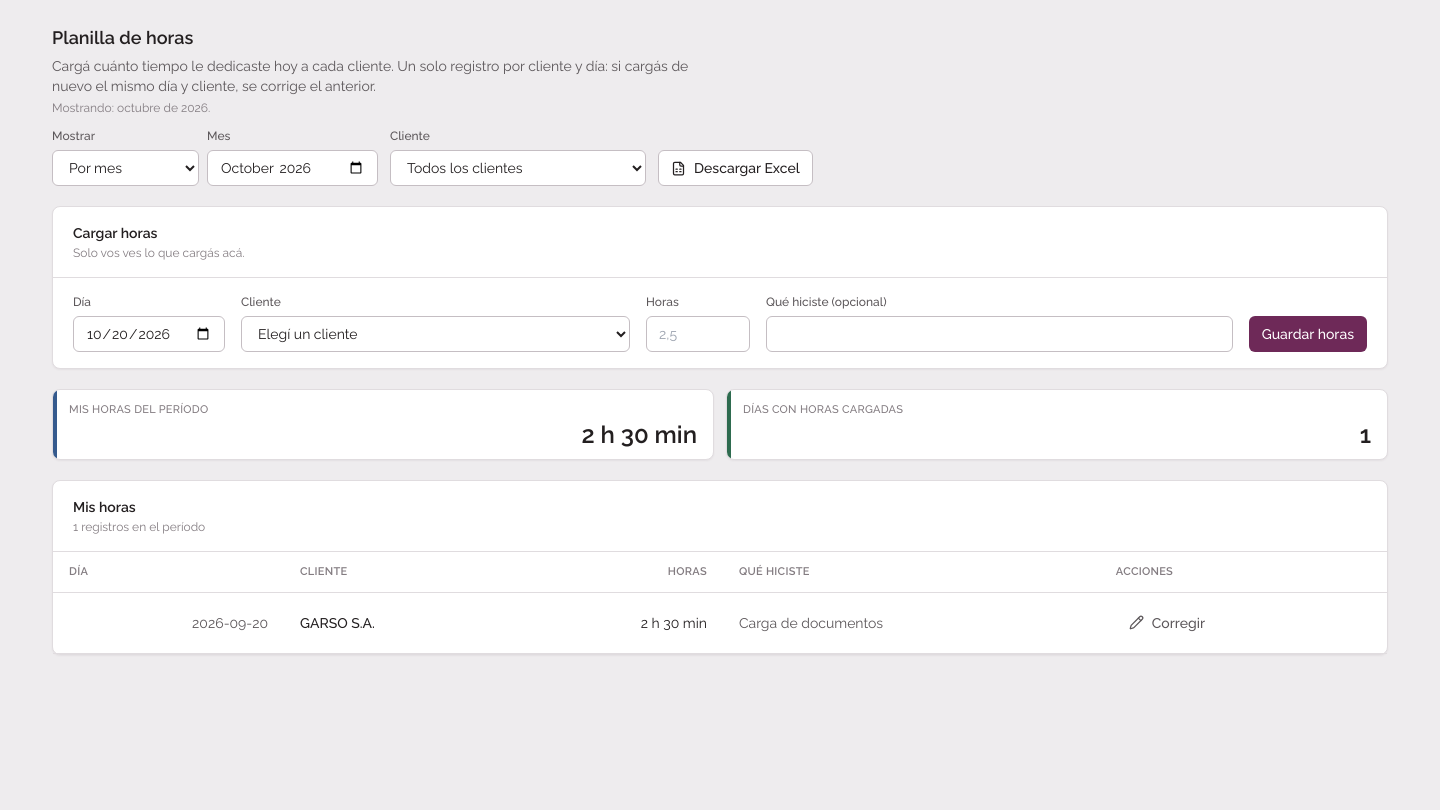
Test case: planilla de horas › corregir precarga el formulario con el registro elegido
The width and height of the screenshot is (1440, 810).
Expected: the heading "Planilla de horas" is shown, [52,27,193,48]
Click the button with aria-label "Corregir horas del 2026-09-20 — GARSO S.A.": x=1167, y=622 [1116,604,1218,640]
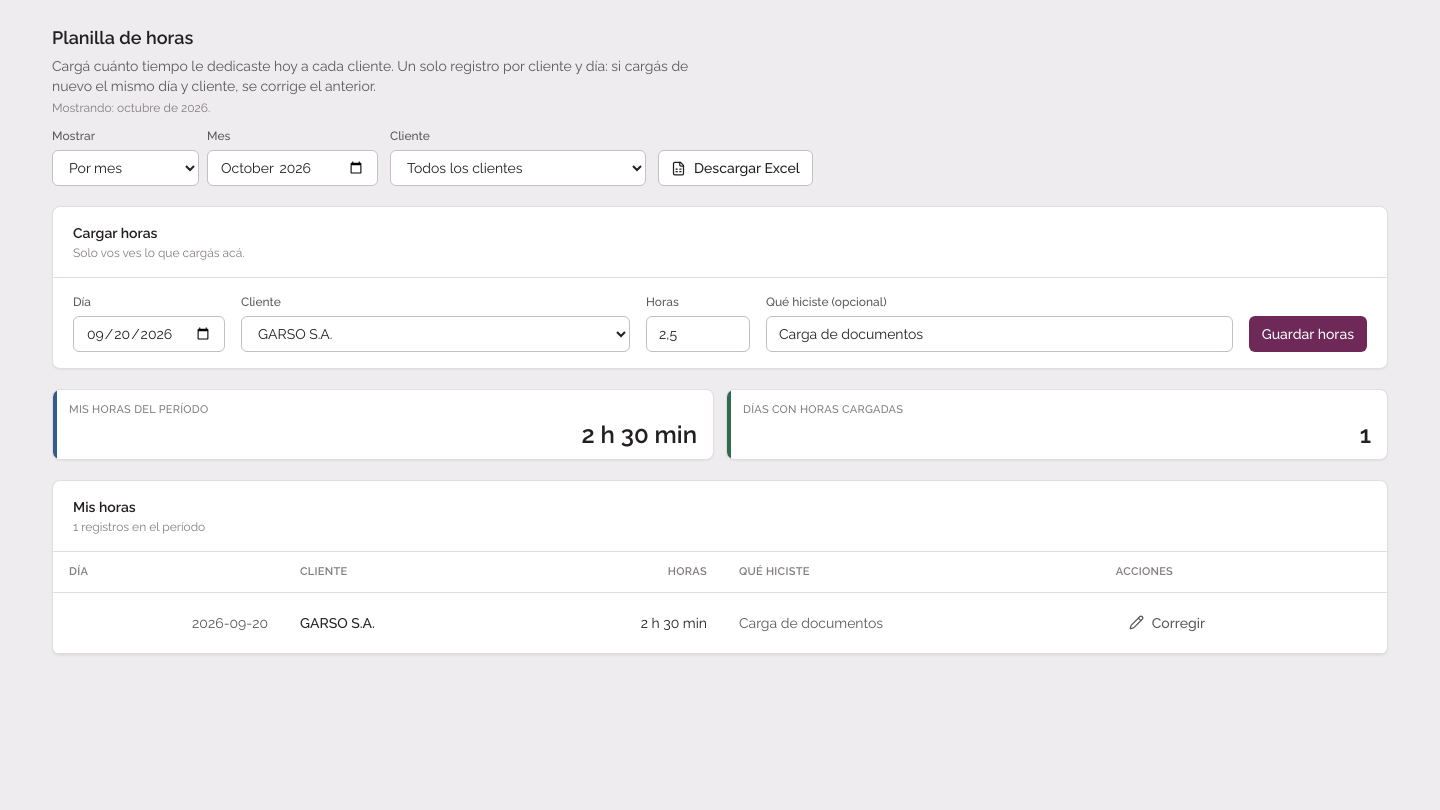
Expected: the dropdown labelled "Cliente" below "Qué hiciste (opcional)" shows "GARSO S.A.", [241,316,630,352]
Expected: the field labelled "Horas" holds "2,5", [646,316,750,352]
Expected: the date field labelled "Día" holds "2026-09-20", [73,316,225,352]
